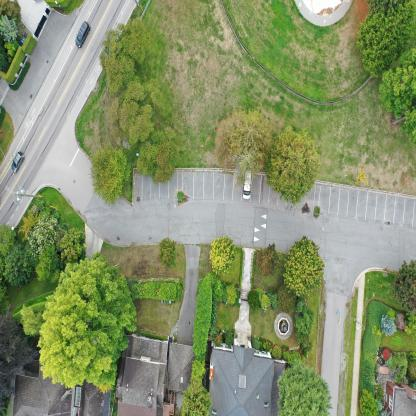Coniferous Tree: (357, 0, 416, 67), (214, 108, 273, 169), (267, 131, 322, 195), (99, 24, 160, 78), (113, 76, 164, 138), (277, 362, 331, 416), (133, 135, 179, 178), (98, 145, 128, 194), (4, 243, 35, 285), (182, 385, 212, 416), (398, 256, 416, 301)
Deciduous Tree: (44, 272, 139, 386), (285, 241, 327, 296), (0, 313, 32, 378), (386, 59, 416, 124), (61, 225, 90, 262), (208, 238, 236, 269), (155, 237, 182, 266), (258, 243, 278, 277), (404, 103, 416, 149)
